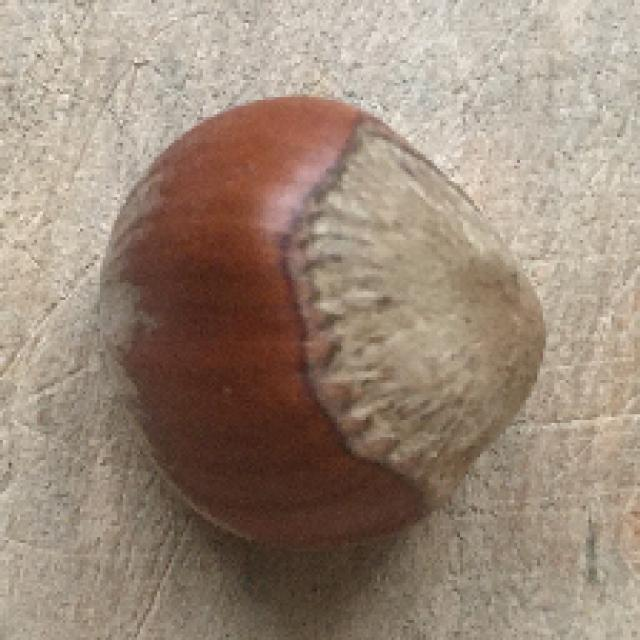qualityHazelnut: (99, 97, 549, 561)
